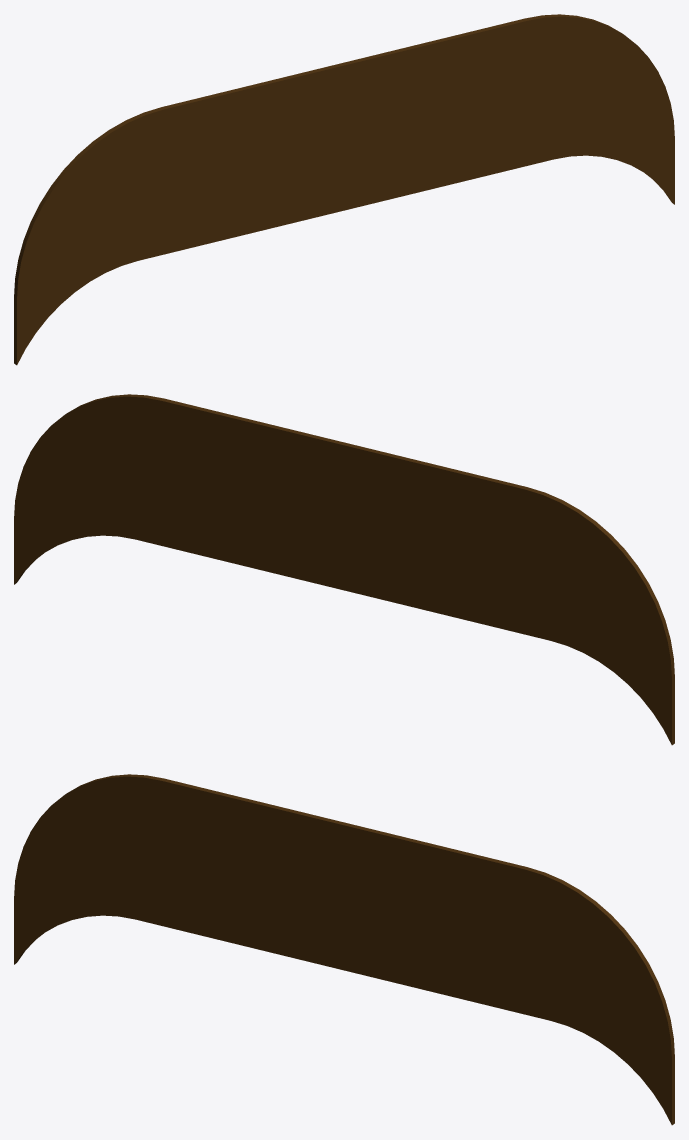
The model's file is body12_visual.obj.
The picture shows the model from 3 angles, top to bottom: view 1: azimuth 30°, elevation 25°; view 2: azimuth 150°, elevation 25°; view 3: azimuth 330°, elevation 25°; orthographic projection.
Visible parts, largest first — view 1: Body12; view 2: Body12; view 3: Body12.
Boxes of the visible parts, x1,y1,x2,y2 form: Body12: (14,14,674,365); Body12: (14,394,674,745); Body12: (14,774,674,1125).
Size of the model in its own units: 253 by 81.07 by 2.
